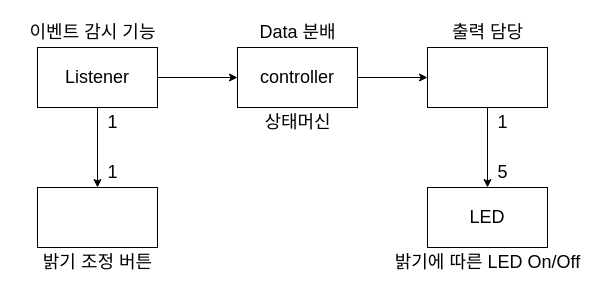
The diagram is 609 pixels wide and 294 high, and some of its shapes have lost their labels. Here are the shapes that lost their labels. From the top down, the centre of each, then its label:
At point 487,77: "View".
At point 97,217: "Button".
